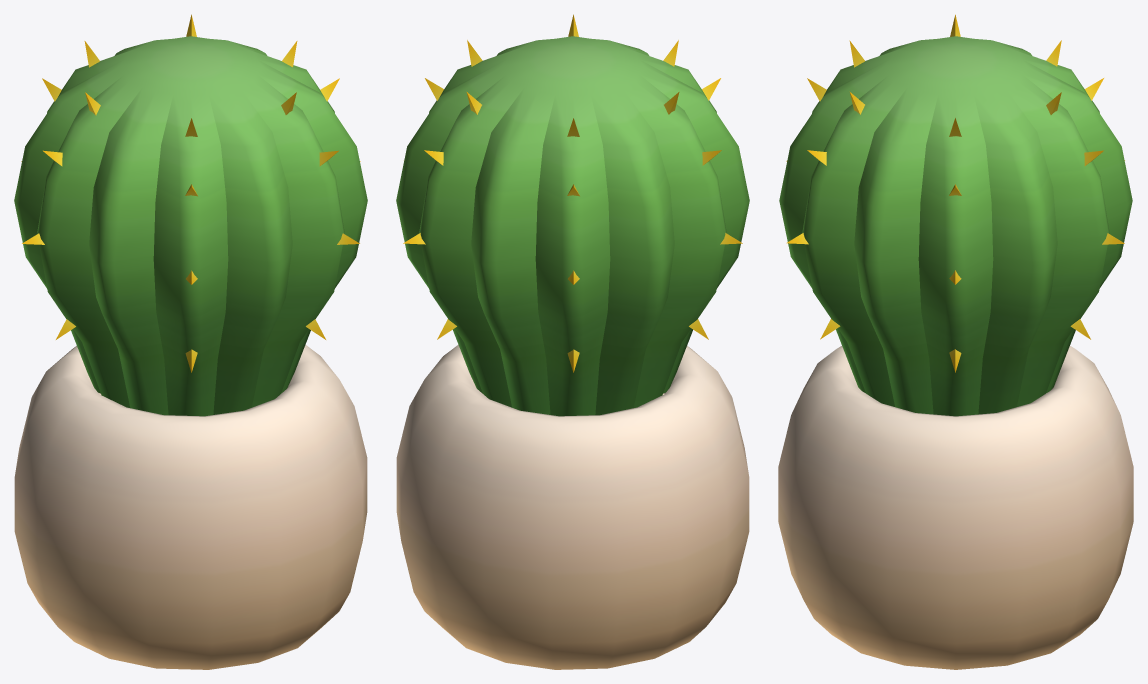
File: Plants_01.glb
3 views of the same model, side by side, from view 1: azimuth 30°, elevation 25°; view 2: azimuth 150°, elevation 25°; view 3: azimuth 270°, elevation 25° (orthographic).
Visible parts, largest first — view 1: Plants_01; view 2: Plants_01; view 3: Plants_01.
Boxes of the visible parts, x1,y1,x2,y2 form: Plants_01: (14,14,367,669); Plants_01: (396,14,749,669); Plants_01: (778,14,1133,669).
Bounding box in the file's own units: 0.1413 × 0.2258 × 0.1281.
Materials: 1 (1 with a texture image).
